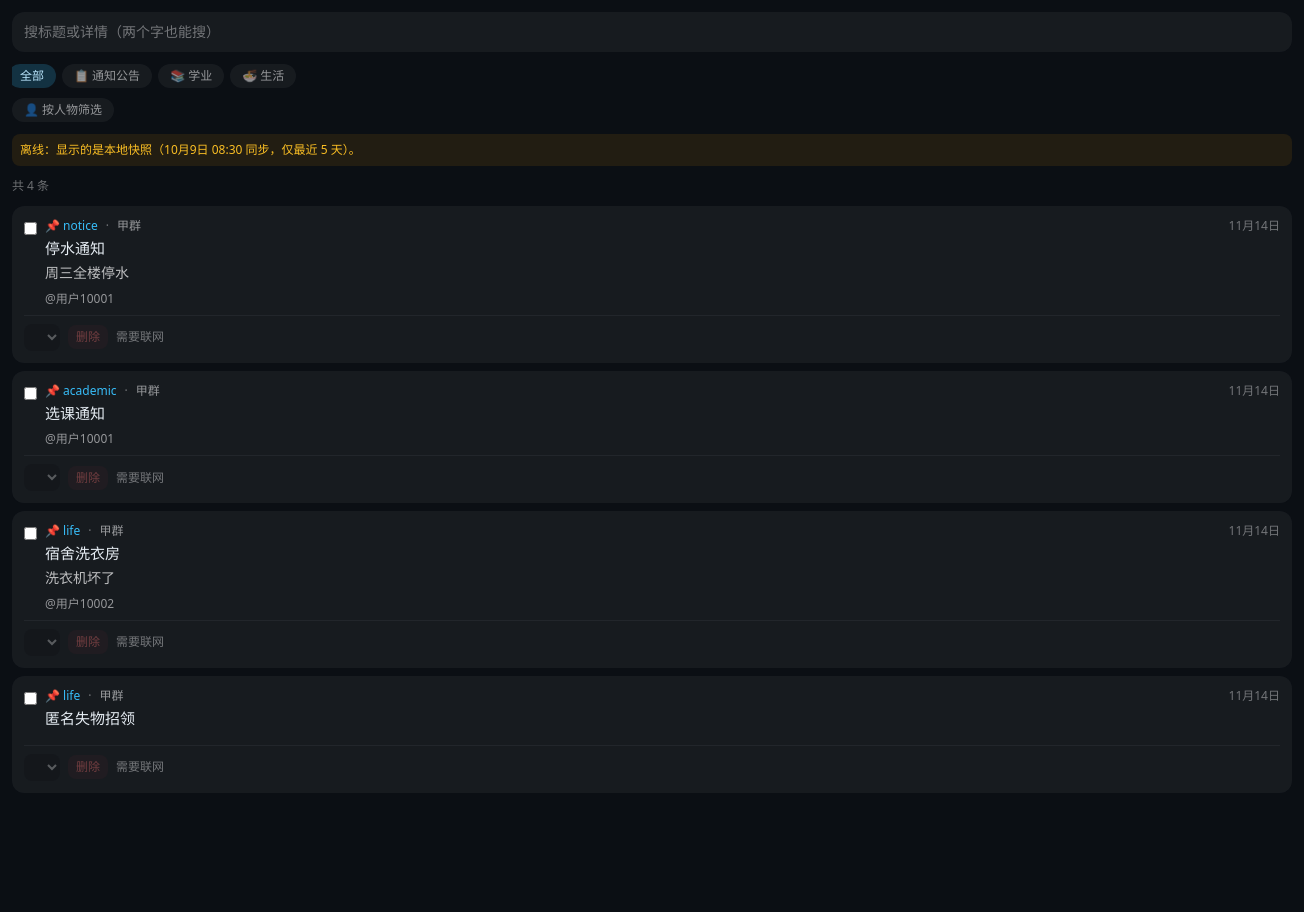
Test: ⭐ T6：离线 + 人物筛选 ⇒ 本地按 actor_uin 筛(匿名条目不匹配)
The image size is (1304, 912).
Check: the text "停水通知" is shown, box [45,238,105,258]
Click the button "👤 按人物筛选".
click(63, 110)  # box [12,98,114,122]
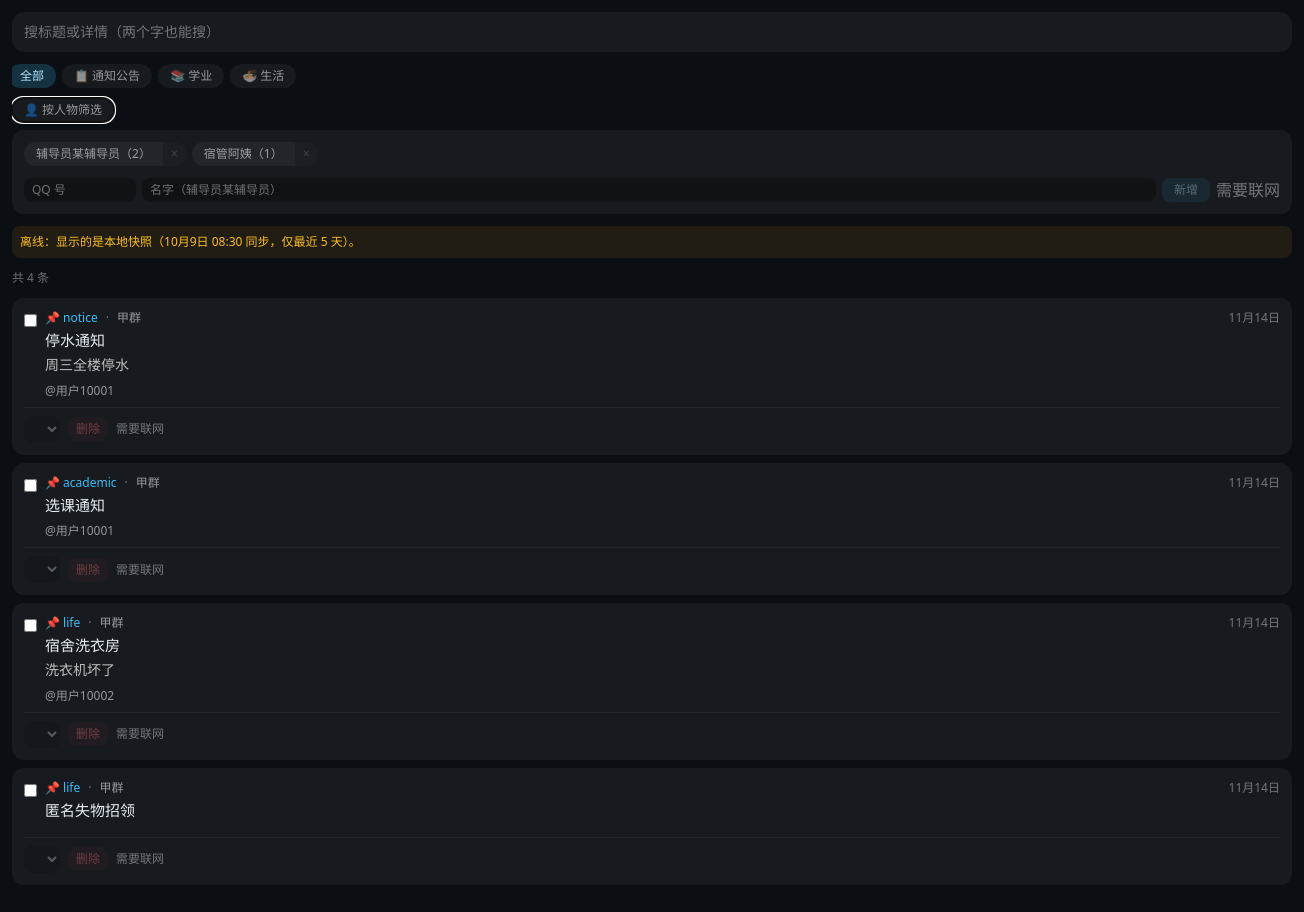
Click the button "辅导员某辅导员（2）".
click(93, 154)  # box [24,142,163,166]
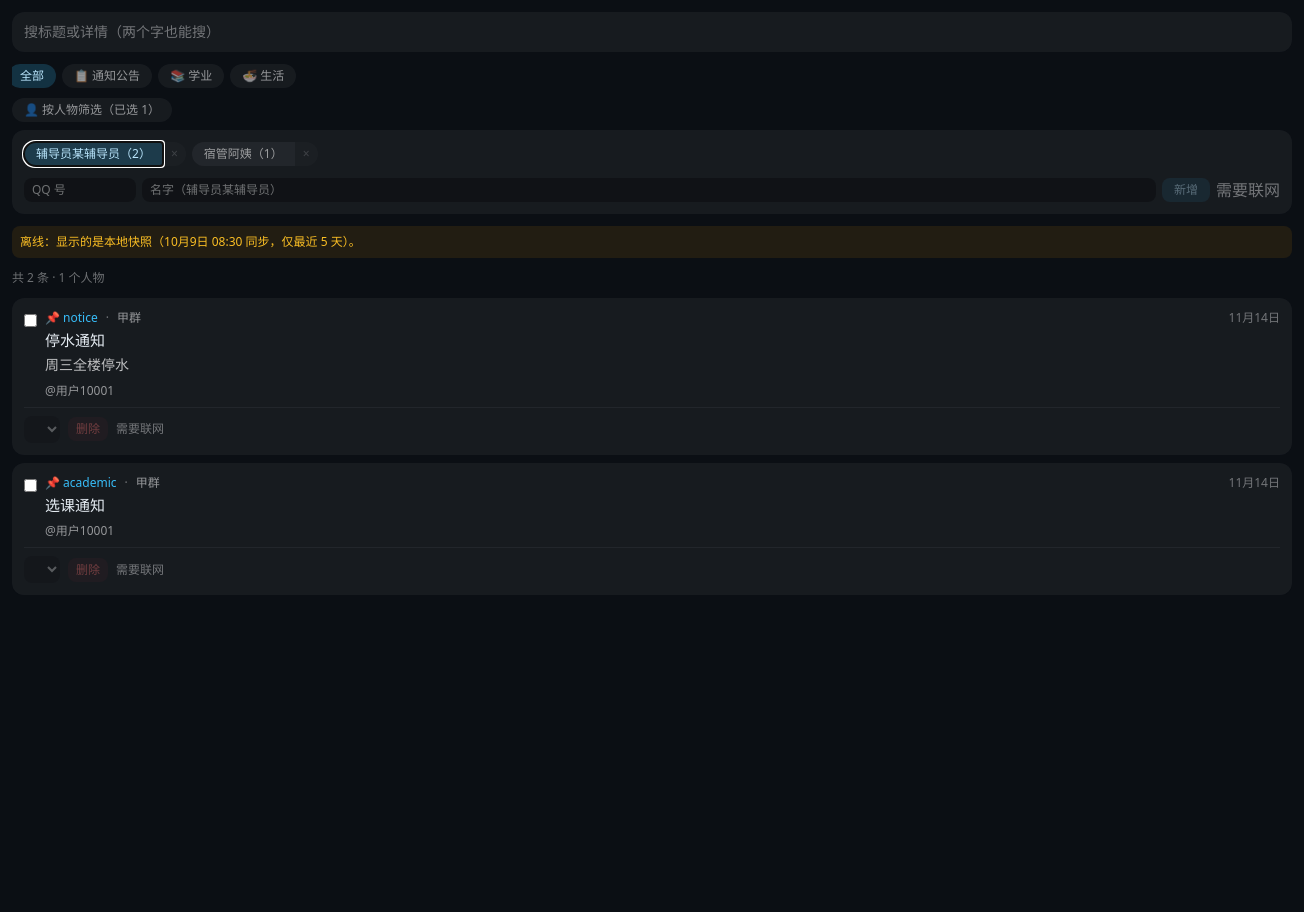
Check: the text "停水通知" is shown, box [45,330,105,350]
Check: the button "宿舍洗衣房" is gone
Check: the button "匿名失物招领" is gone
